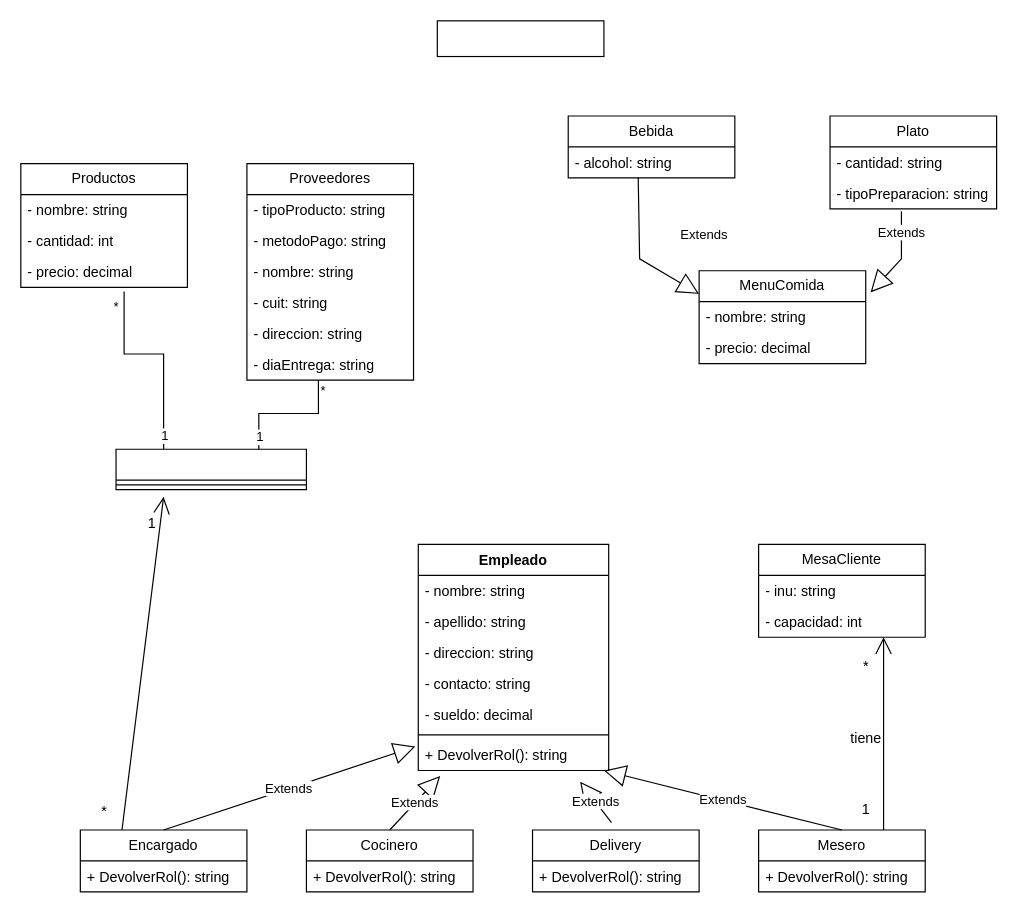
This 1017x916 diagram has some shape labels left out. The centre of each missing label's shape, as x and y in pixels:
"Inventario" goes at pixel 210 469.
"Restaurante" goes at pixel 520 38.
